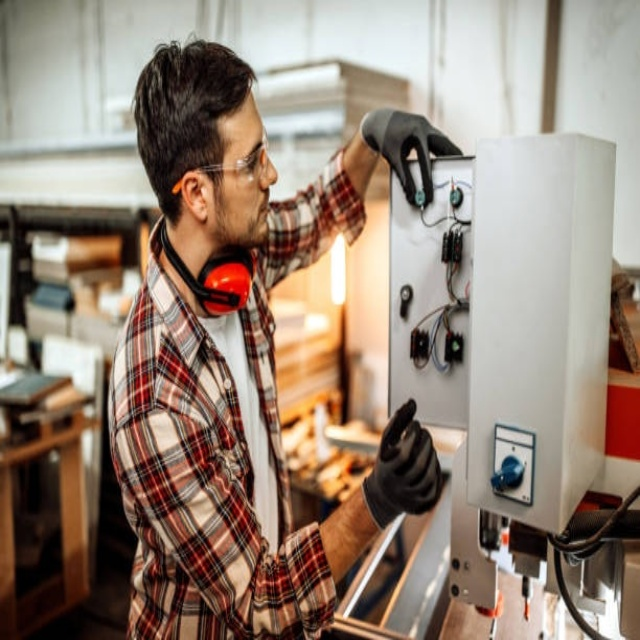Gafas: (182, 128, 268, 189)
Guantes: (360, 397, 444, 531), (361, 107, 466, 207)
Sin_mascara: (243, 185, 277, 238)
